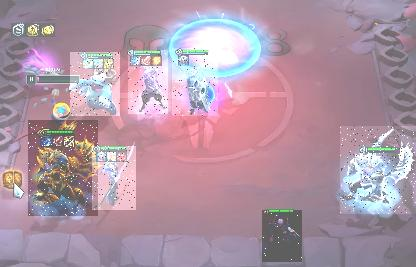1_vladimir: (262, 210, 302, 262)
2_daeja: (340, 126, 416, 214)
2_leona: (172, 48, 218, 116)
2_nunu: (70, 52, 120, 116)
2_yasuo: (128, 50, 168, 114)
2_yone: (92, 146, 136, 210)
3_daeja: (28, 120, 98, 216)
